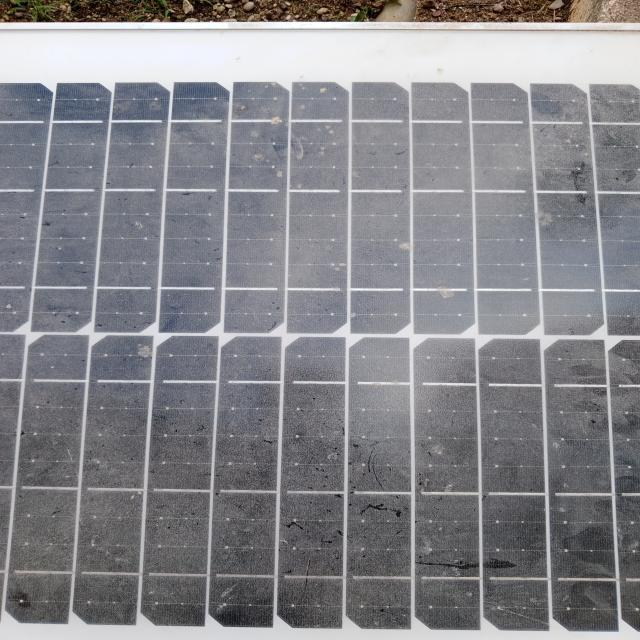Surface Contaminant: (14, 64, 639, 638)
